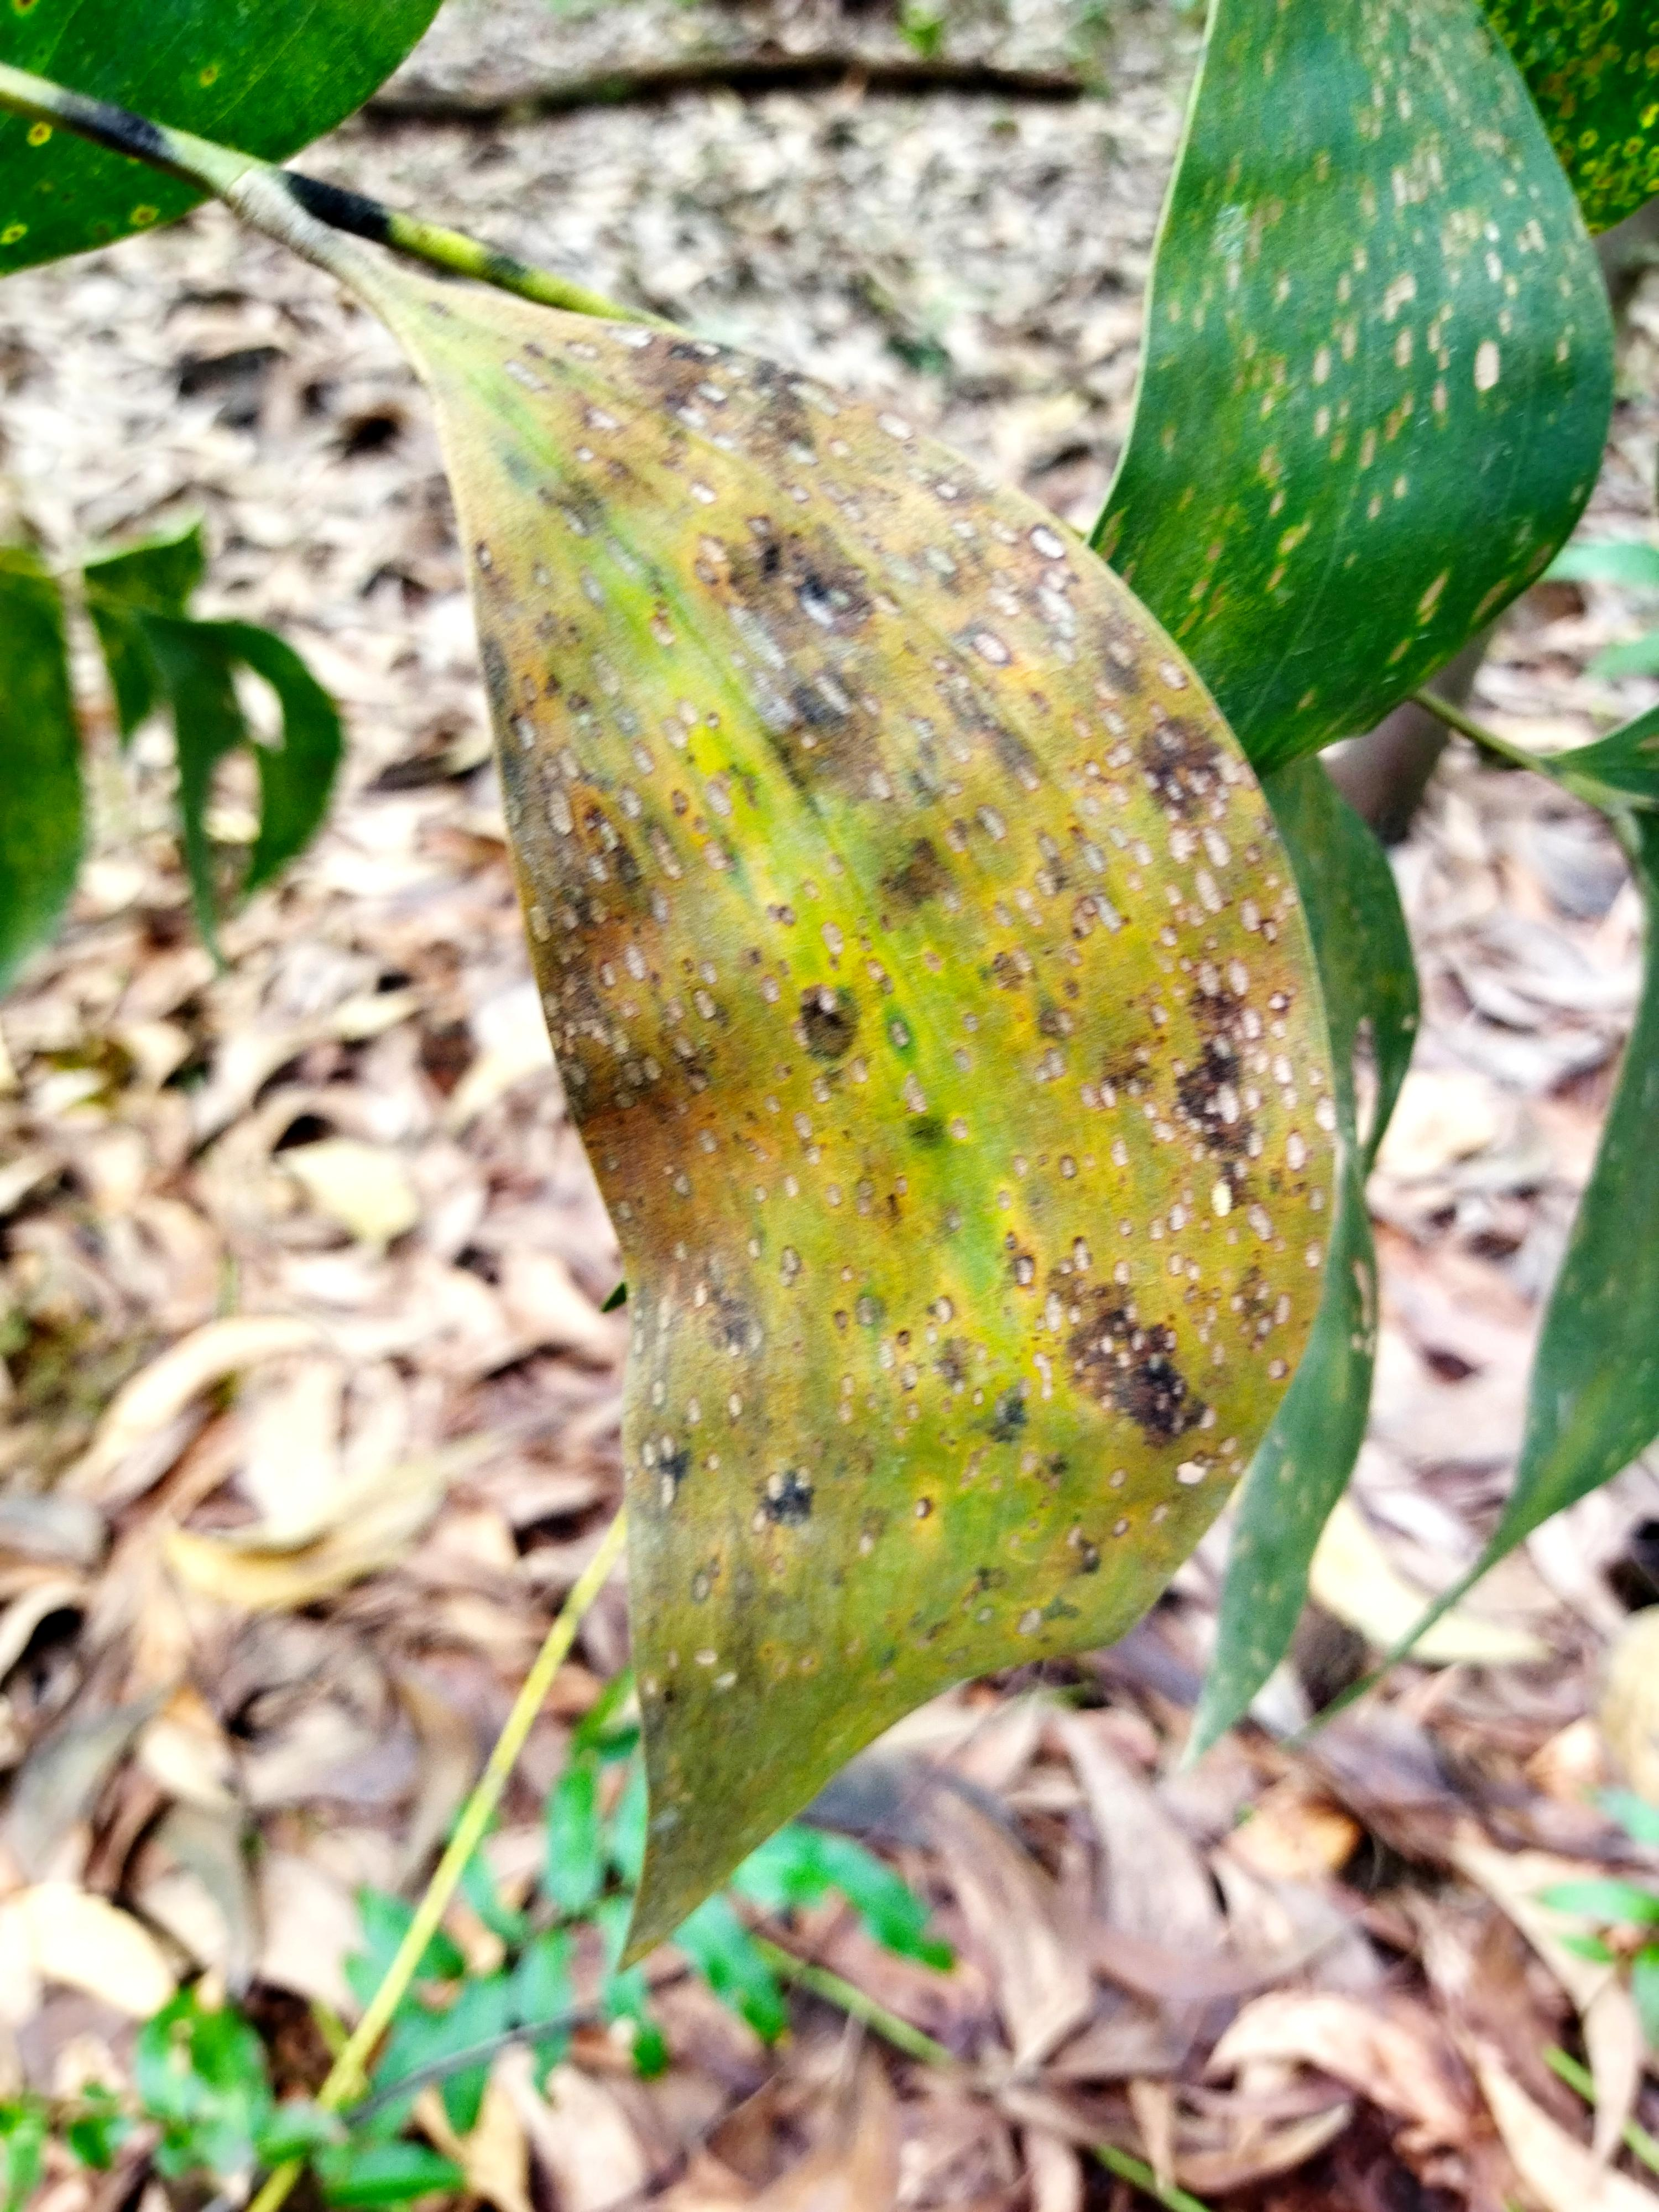Xanthomonas: (443, 388, 1319, 1806)
